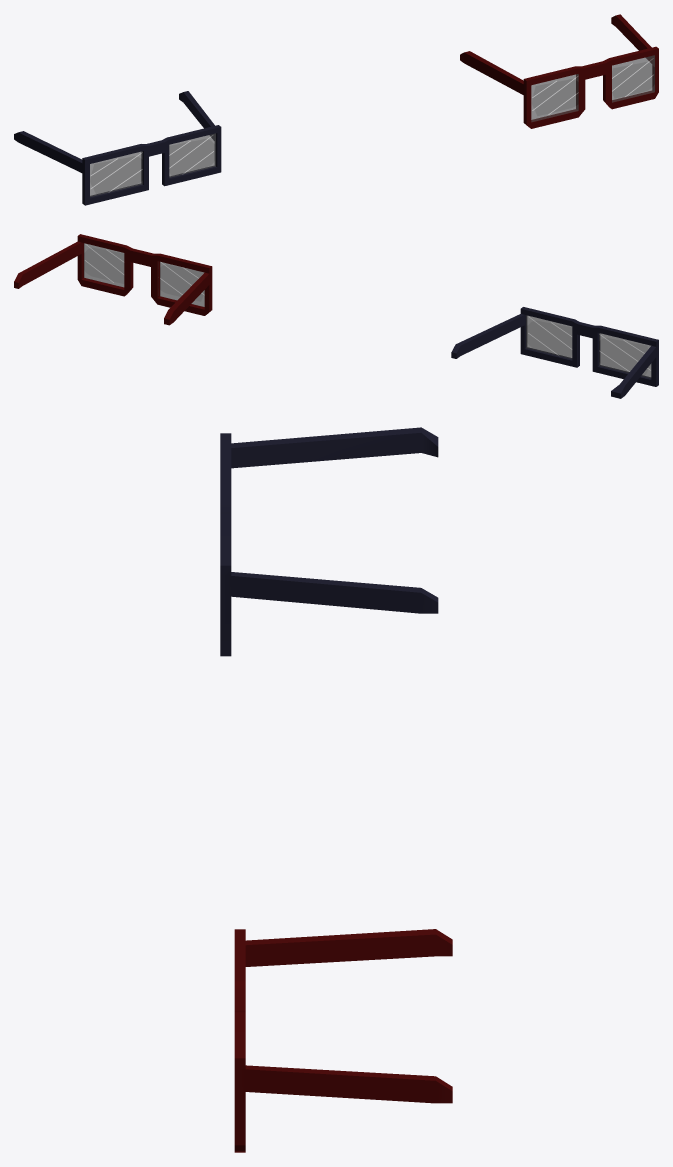
File: gafas.fbx
3 views of the same model, one above another, from view 1: azimuth 30°, elevation 25°; view 2: azimuth 150°, elevation 25°; view 3: azimuth 270°, elevation 25° (orthographic). The views are drawn at different scales.
Visible parts, largest first — view 1: pPlane6, pCube22; view 2: pCube22, pPlane6; view 3: pPlane6, pCube22.
Boxes of the visible parts, x1,y1,x2,y2 form: pPlane6: (460,14,658,128); pCube22: (14,91,221,205); pCube22: (451,307,658,398); pPlane6: (14,234,212,325); pPlane6: (234,929,452,1152); pCube22: (220,427,438,656).
Size of the model in its own units: 4.58 by 0.5872 by 0.7633.
